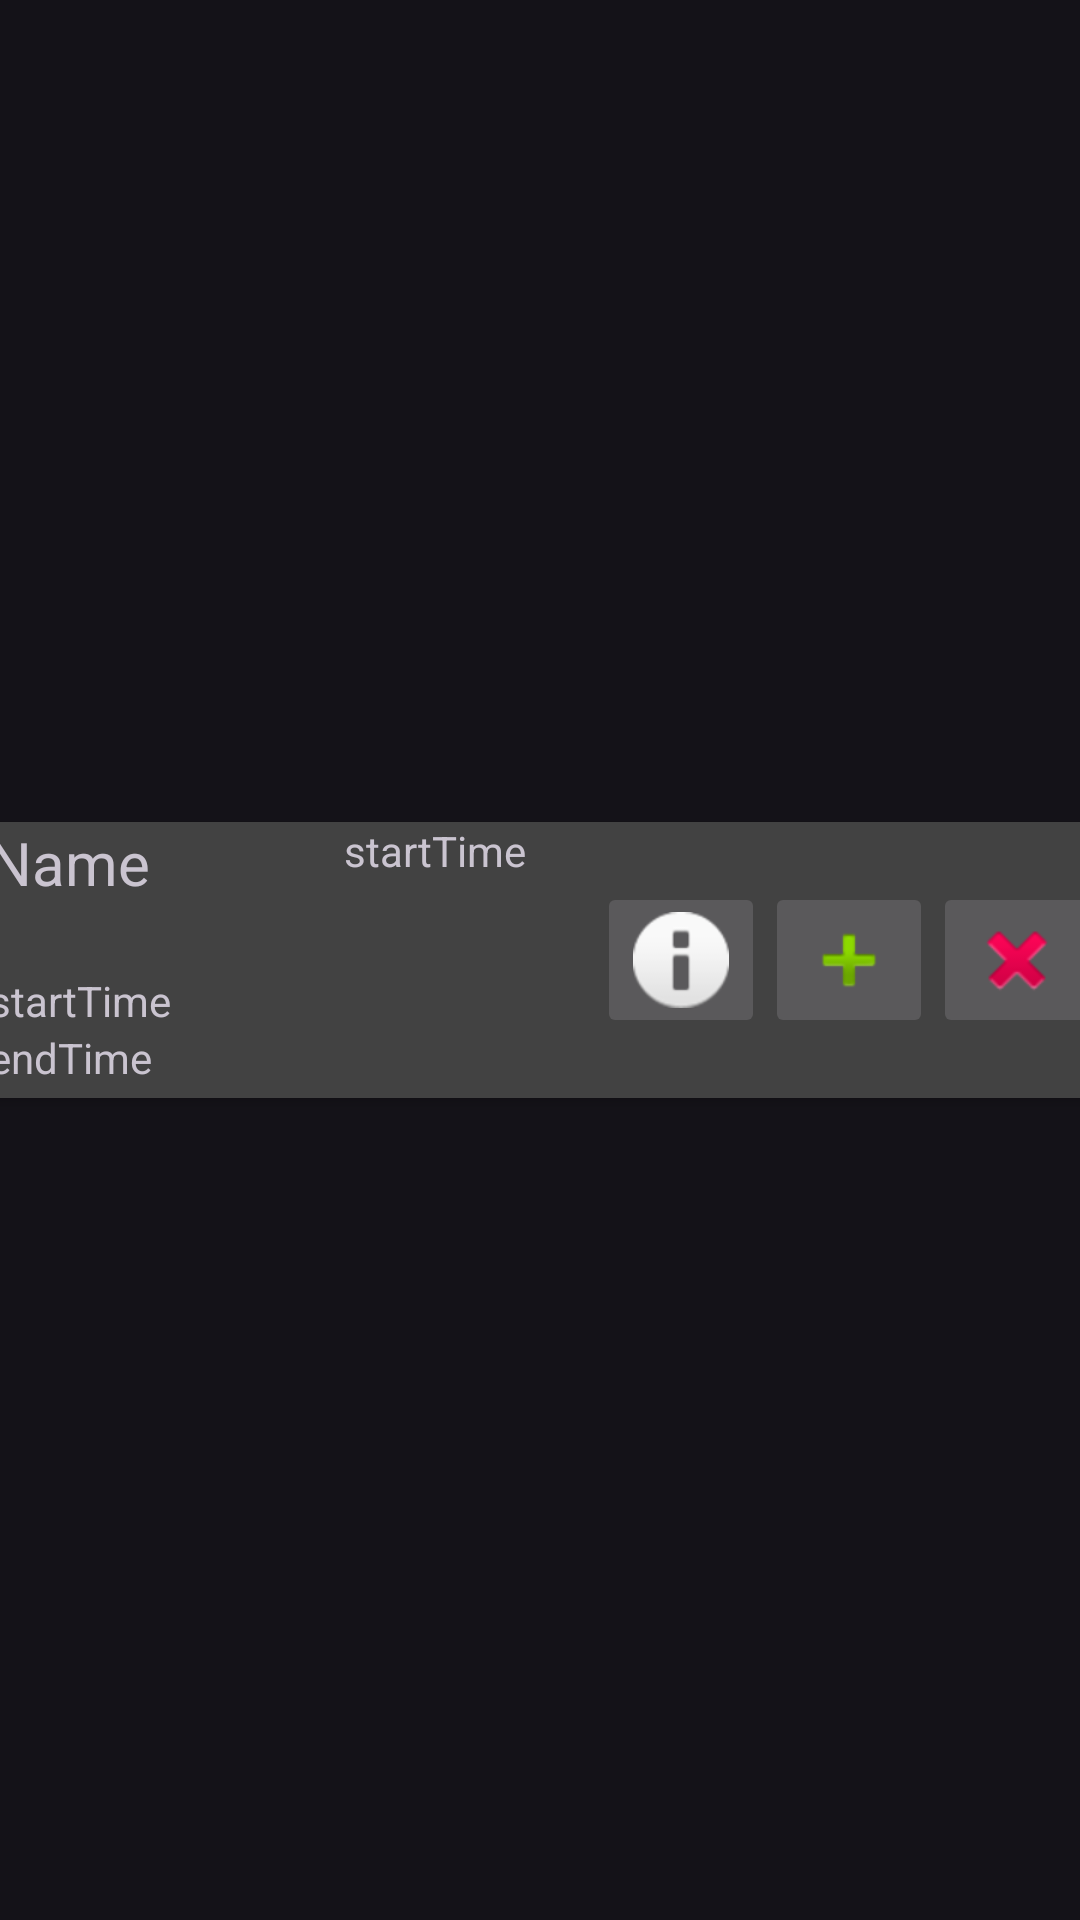

Icons on this 1080 × 1920 Android screen, each with its box as {"x1": x1, "y1": y1, "x2": x2, "y2": y2}:
add: {"x1": 777, "y1": 900, "x2": 921, "y2": 1020}
info: {"x1": 609, "y1": 900, "x2": 753, "y2": 1020}
